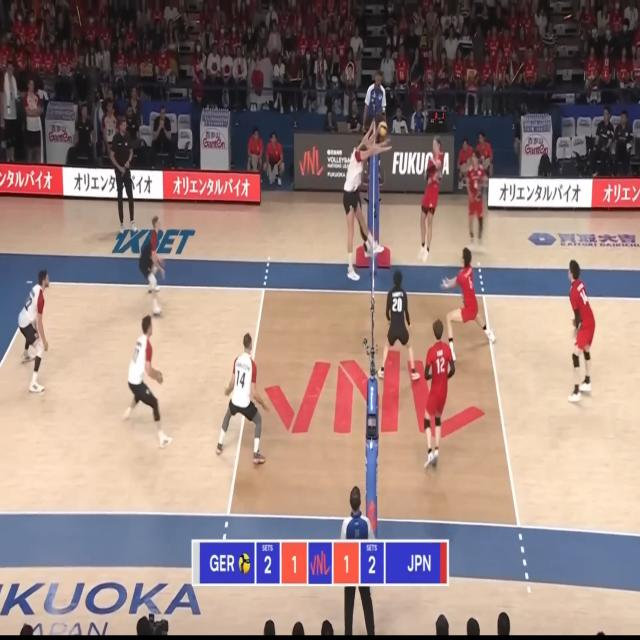ball: (378, 122, 387, 136)
